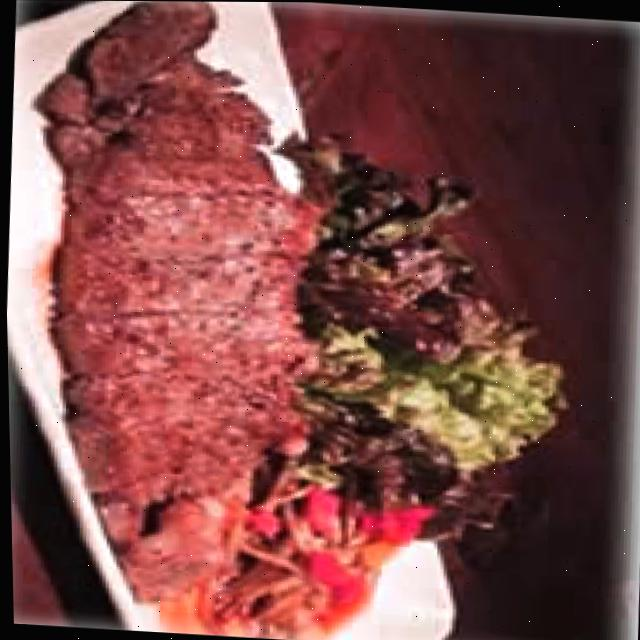牛肉菜式: (14, 8, 346, 607)
